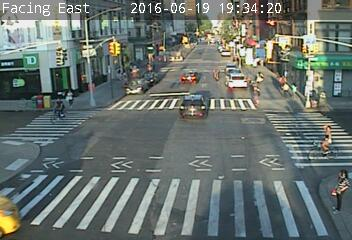neg: (313, 122, 339, 158), (106, 28, 126, 56), (50, 95, 69, 121), (75, 32, 94, 57), (126, 80, 143, 102), (219, 1, 236, 23), (208, 61, 222, 80), (181, 71, 195, 90)
pos: (319, 162, 351, 215), (271, 68, 293, 97), (245, 78, 267, 107), (60, 88, 78, 112), (280, 81, 295, 101), (289, 80, 303, 98), (254, 68, 266, 83)
